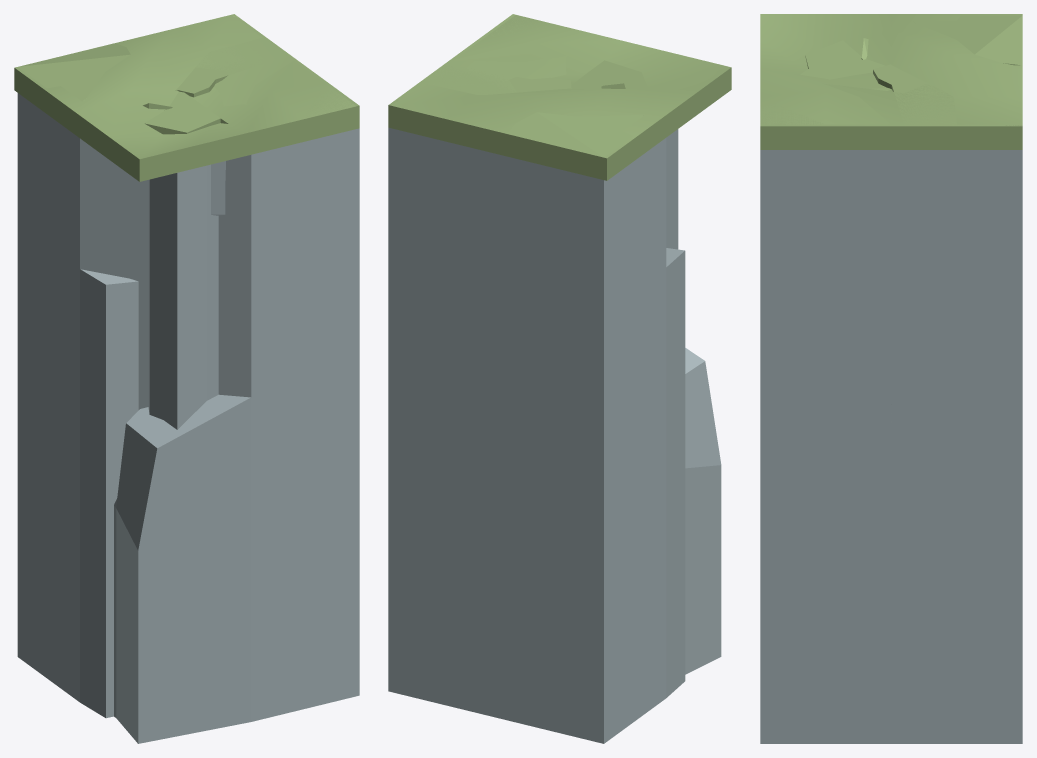
The model's file is dual_island_grid.fbx.
The picture shows the model from 3 angles, left to right: view 1: azimuth 30°, elevation 25°; view 2: azimuth 150°, elevation 25°; view 3: azimuth 270°, elevation 25°; orthographic projection. The views are drawn at different scales.
Visible parts, largest first — view 1: Tile_L_L_L_W, Tile_L_L_L_W_01, Tile_L_W_L_W, Tile_L_L_W_W, Tile_L_L_L_L, Tile_L_W_W_W_02; view 2: Tile_L_L_L_W, Tile_L_W_L_W, Tile_L_W_W_W, Tile_L_L_L_L, Tile_L_L_W_W, Tile_L_L_L_W_02, Tile_L_L_L_W_01, Tile_L_W_W_W_02; view 3: Tile_L_L_L_W, Tile_L_L_L_W_02, Tile_L_L_L_L, Tile_L_W_L_W, Tile_L_L_W_W, Tile_L_W_W_W_02.
Part boxes in pixels (left/top/right/bottom): Tile_L_L_L_W: left=17, top=14, right=359, bottom=721; Tile_L_L_L_W_01: left=18, top=141, right=251, bottom=743; Tile_L_W_L_W: left=18, top=43, right=251, bottom=700; Tile_L_L_W_W: left=17, top=14, right=289, bottom=718; Tile_L_L_L_L: left=14, top=15, right=356, bottom=181; Tile_L_W_W_W_02: left=80, top=83, right=228, bottom=409; Tile_L_L_L_W: left=388, top=14, right=666, bottom=743; Tile_L_W_L_W: left=496, top=83, right=678, bottom=741; Tile_L_W_W_W: left=496, top=154, right=608, bottom=743; Tile_L_L_L_L: left=391, top=15, right=731, bottom=180; Tile_L_L_W_W: left=388, top=64, right=685, bottom=739; Tile_L_L_L_W_02: left=388, top=99, right=603, bottom=742; Tile_L_L_L_W_01: left=604, top=146, right=721, bottom=742; Tile_L_W_W_W_02: left=571, top=60, right=648, bottom=88; Tile_L_L_L_W: left=760, top=83, right=1022, bottom=743; Tile_L_L_L_W_02: left=760, top=125, right=1022, bottom=743; Tile_L_L_L_L: left=760, top=14, right=1022, bottom=124; Tile_L_W_L_W: left=760, top=15, right=1022, bottom=743; Tile_L_L_W_W: left=873, top=64, right=1022, bottom=743; Tile_L_W_W_W_02: left=800, top=40, right=891, bottom=90.
Bounding box in the file's own units: 101 × 266 × 100.
